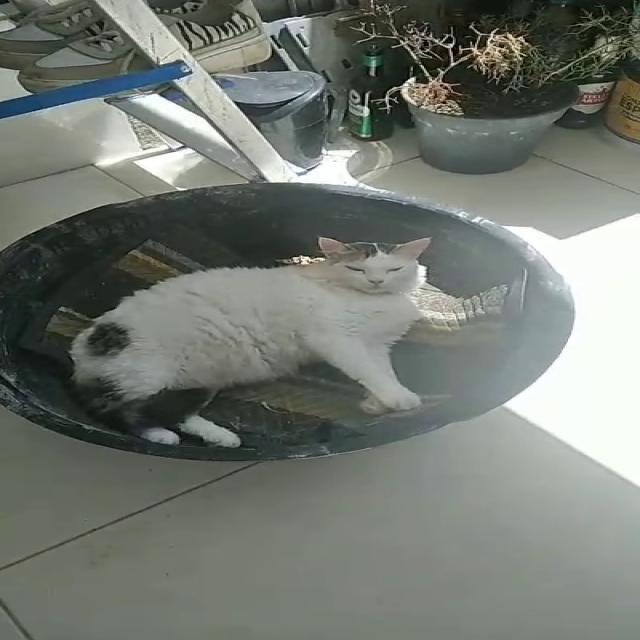Simba: (21, 236, 493, 421)
